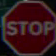Stop: (2, 11, 53, 48)
